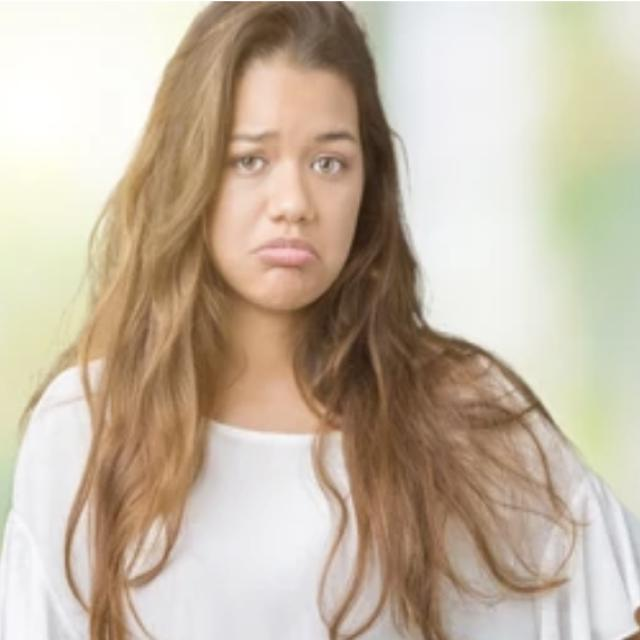sad: (205, 83, 374, 333)
